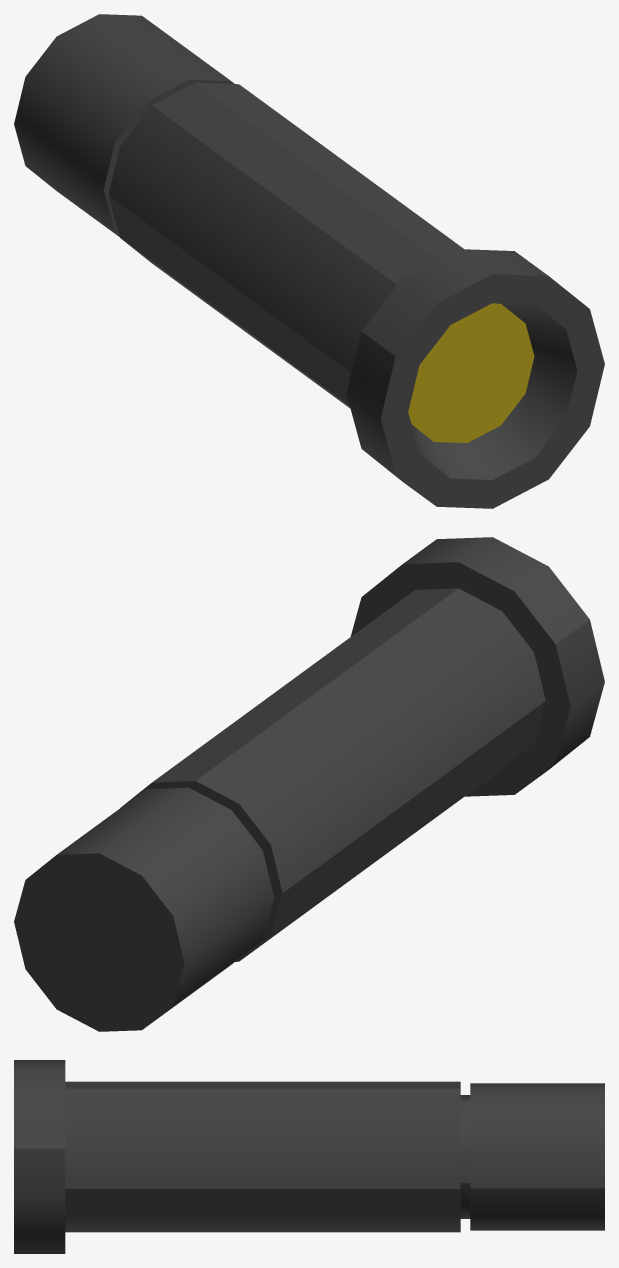
The model's file is Taschenlampe.fbx.
3 renders of one model, top to bottom at view 1: azimuth 30°, elevation 25°; view 2: azimuth 150°, elevation 25°; view 3: azimuth 270°, elevation 25°, orthographic. The views are drawn at different scales.
Visible parts, largest first — view 1: Taschenlampe; view 2: Taschenlampe; view 3: Taschenlampe.
Boxes of the visible parts, bbox=[...] form: Taschenlampe: bbox=[14, 14, 604, 508]; Taschenlampe: bbox=[14, 537, 604, 1031]; Taschenlampe: bbox=[14, 1060, 604, 1253].
Bounding box in the file's own units: 200 × 200 × 608.
